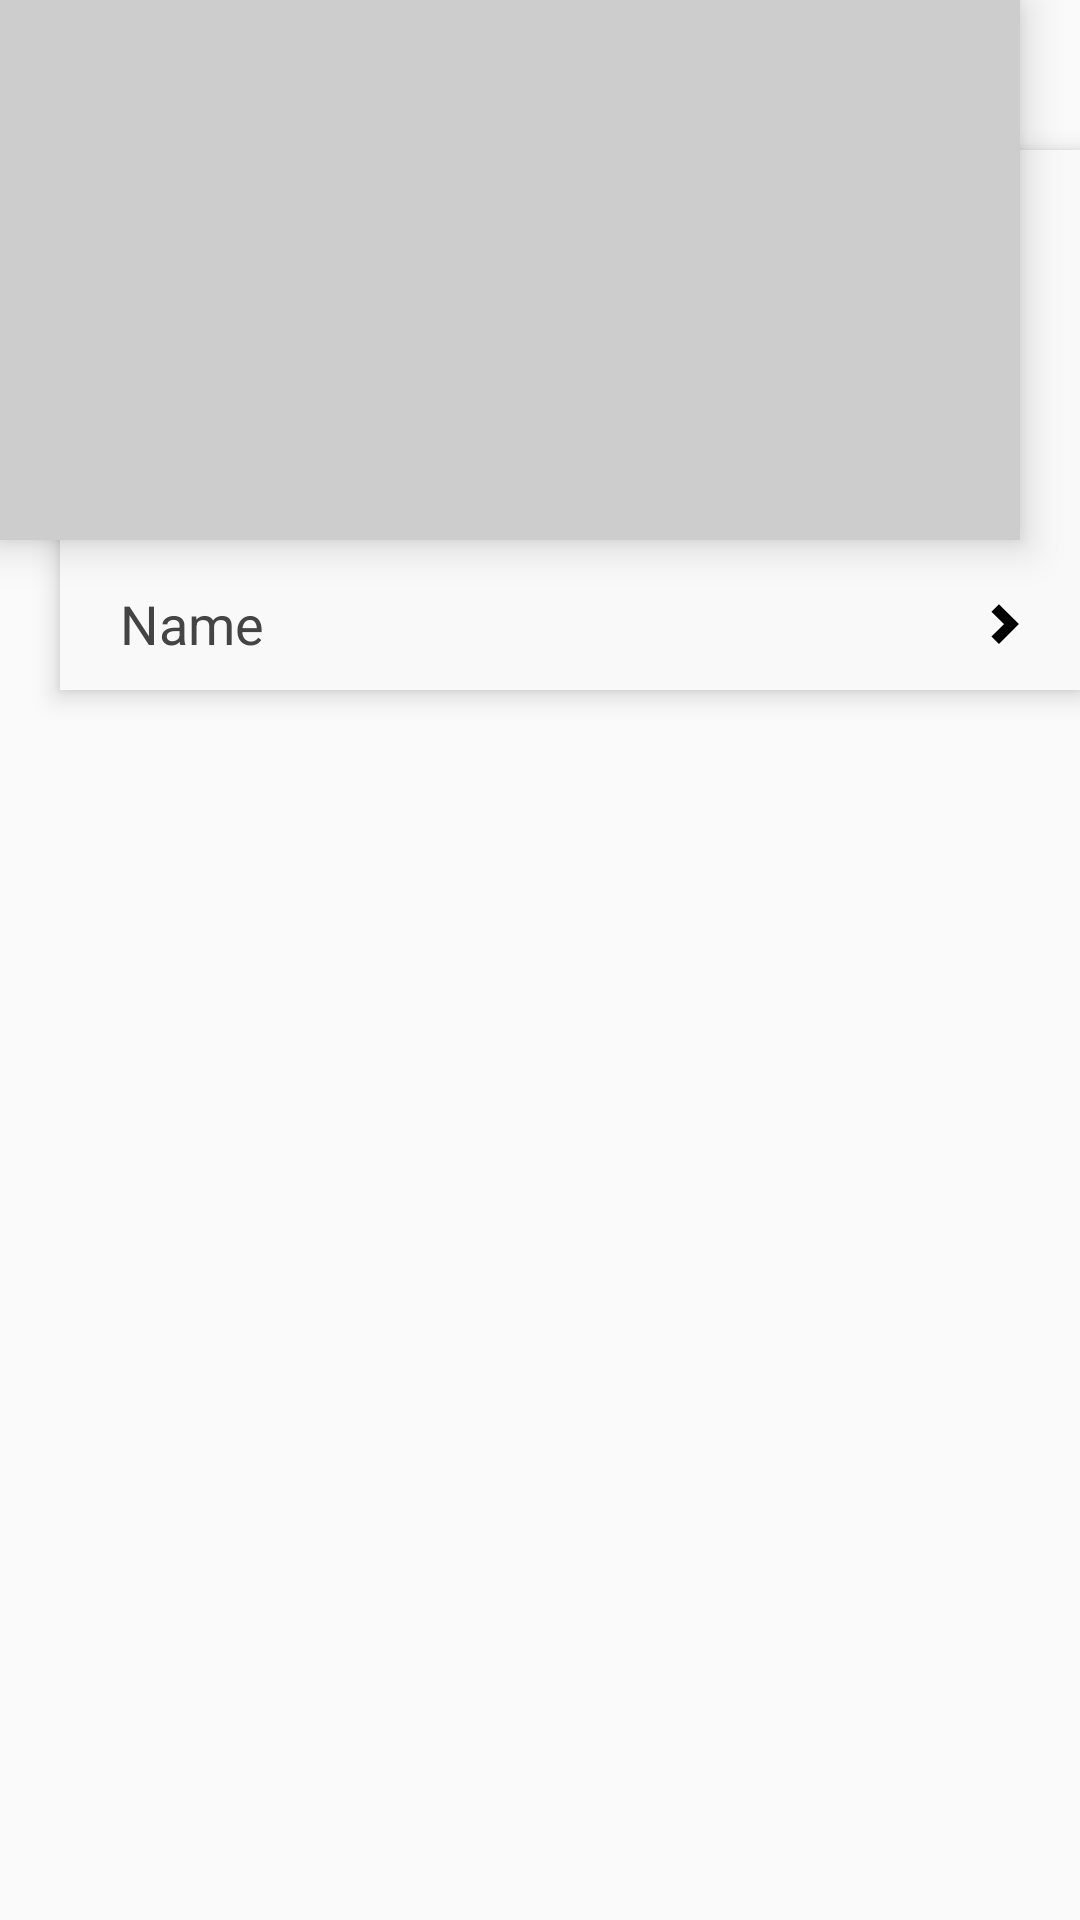

Icon bounding boxes for this 1080 × 1920 phone screenshot, format {"left": x1, "top": y1, "right": x2, "bottom": y2}:
view chevron: {"left": 991, "top": 604, "right": 1019, "bottom": 644}
